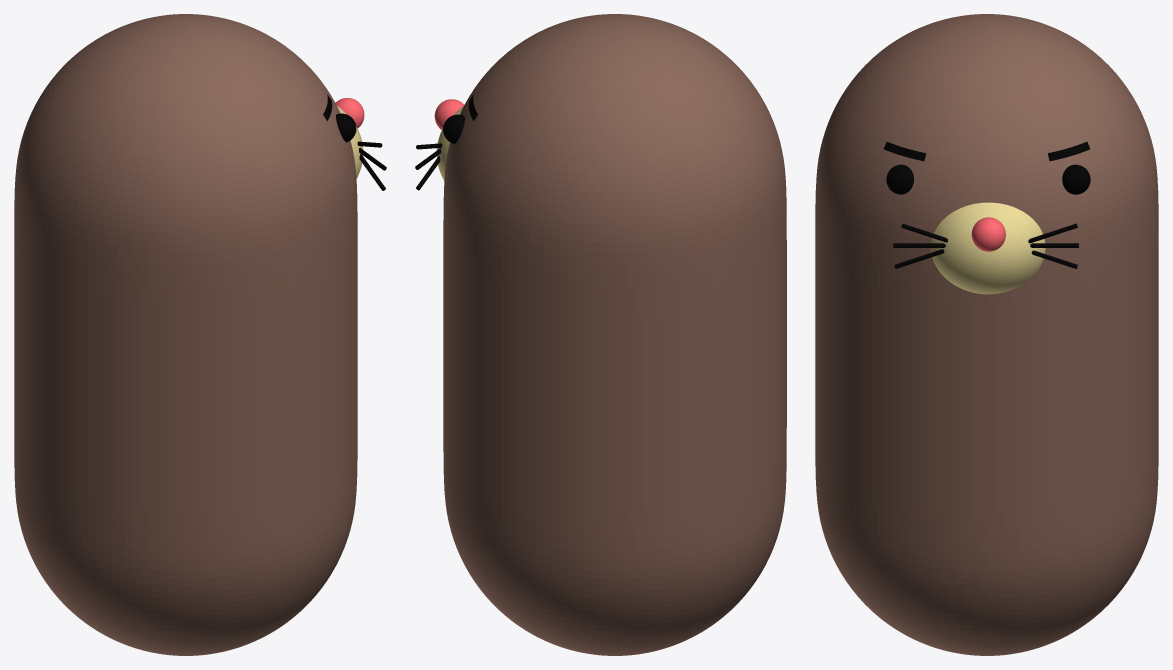
Rendered from Mole.fbx.
3 views of the same model, side by side, from view 1: azimuth 30°, elevation 25°; view 2: azimuth 150°, elevation 25°; view 3: azimuth 270°, elevation 25° (orthographic).
Visible parts, largest first — view 1: Sphere; view 2: Sphere; view 3: Sphere, Sphere.001, Sphere.004, Sphere.002, Sphere.003.
Part boxes in pixels (bbox=[...]): Sphere: bbox=[14, 14, 357, 655]; Sphere: bbox=[443, 14, 786, 655]; Sphere: bbox=[815, 14, 1158, 655]; Sphere.001: bbox=[931, 202, 1045, 294]; Sphere.004: bbox=[971, 217, 1005, 251]; Sphere.002: bbox=[1062, 164, 1090, 194]; Sphere.003: bbox=[886, 164, 913, 194].
Bounding box in the file's own units: 218 × 390 × 199.
